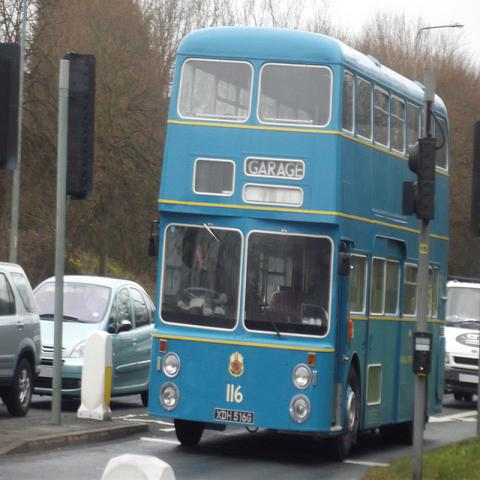bus: (147, 25, 451, 466)
car: (34, 272, 153, 406), (0, 262, 43, 420), (442, 283, 480, 401)
